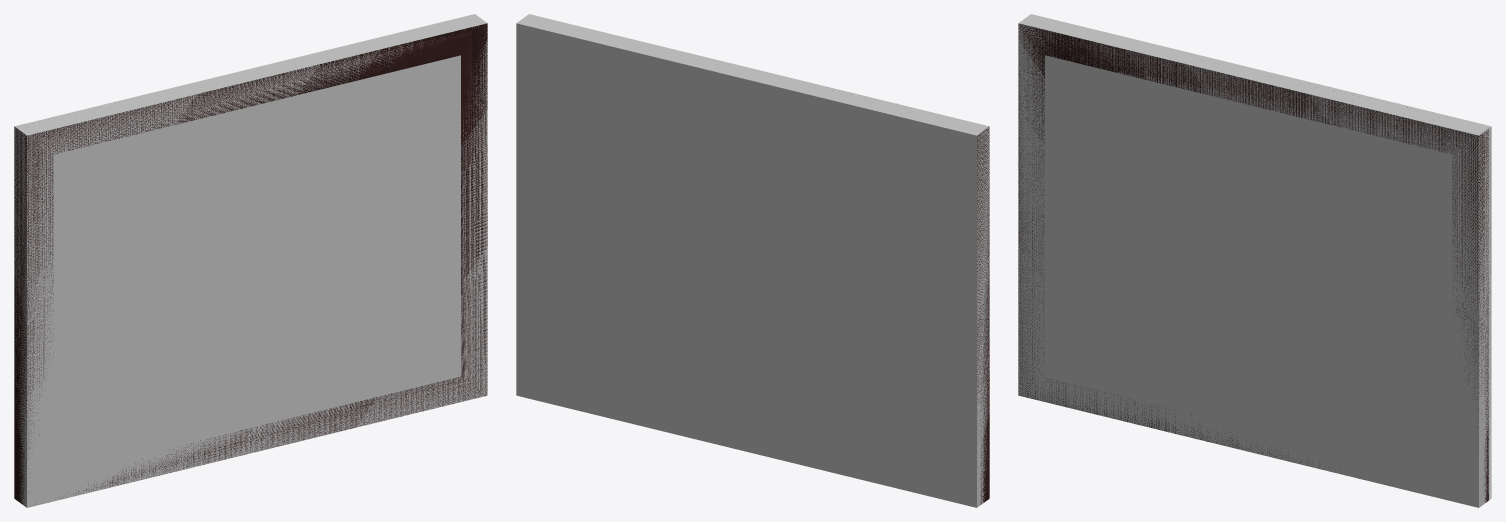
Rendered from painting_02.DAE.
3 views of the same model, side by side, from view 1: azimuth 30°, elevation 25°; view 2: azimuth 150°, elevation 25°; view 3: azimuth 330°, elevation 25° (orthographic).
Visible parts, largest first — view 1: bounds, painting_two100; view 2: bounds, painting_two100; view 3: bounds, painting_two100.
Boxes of the visible parts, x1,y1,x2,y2 form: bounds: (14,14,487,507); painting_two100: (14,23,487,505); bounds: (516,14,989,507); painting_two100: (851,93,989,504); bounds: (1018,14,1491,507); painting_two100: (1018,24,1491,502).
Bounding box in the file's own units: 93.82 × 4.48 × 72.48.
